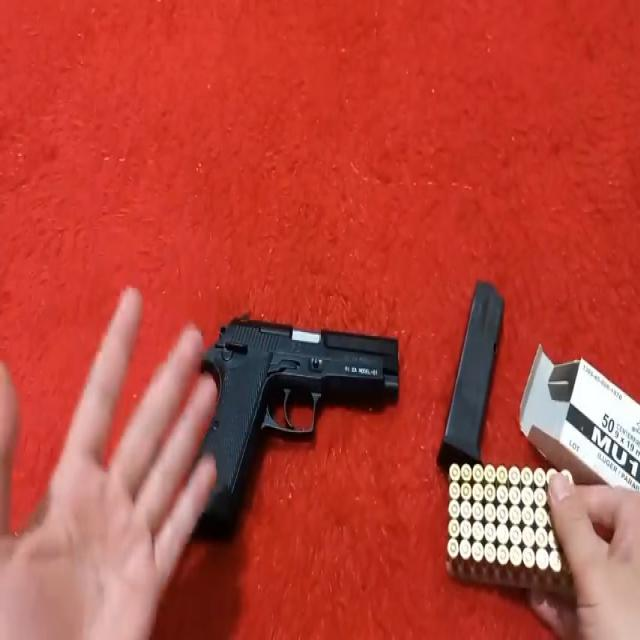handgun: (200, 314, 406, 488)
